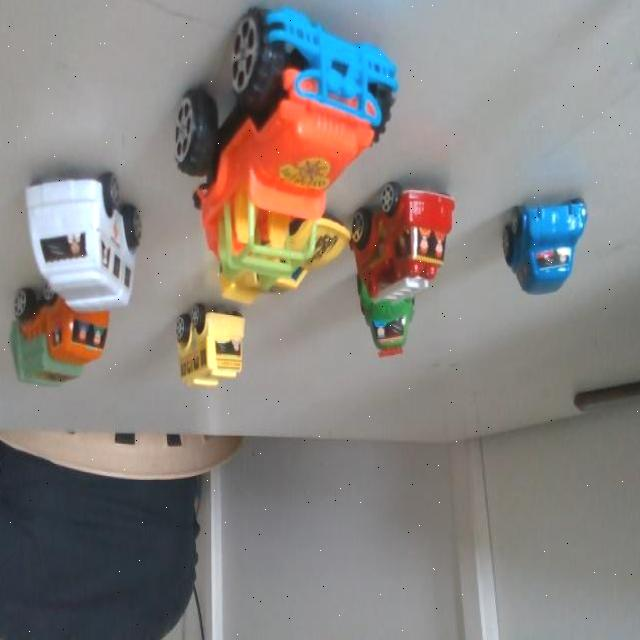car: (254, 5, 410, 198), (494, 168, 604, 312), (238, 196, 354, 308), (35, 185, 141, 297), (375, 172, 461, 300), (25, 280, 120, 393), (193, 307, 256, 395), (366, 273, 426, 353)
